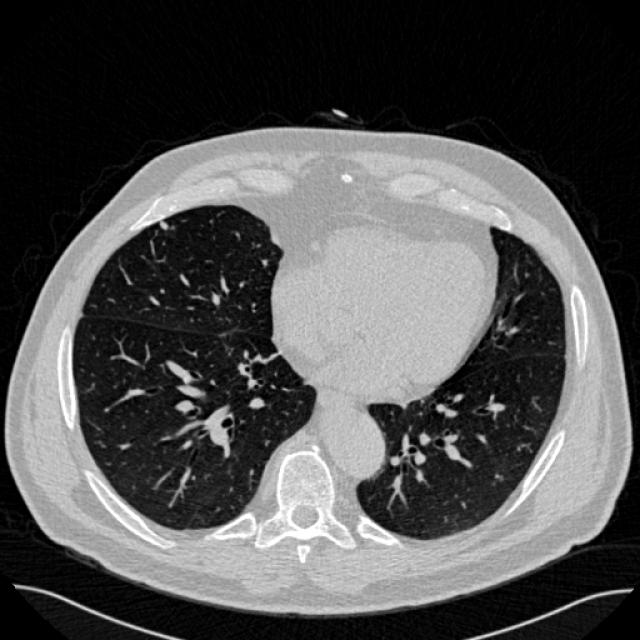nodule: (152, 214, 172, 234)
